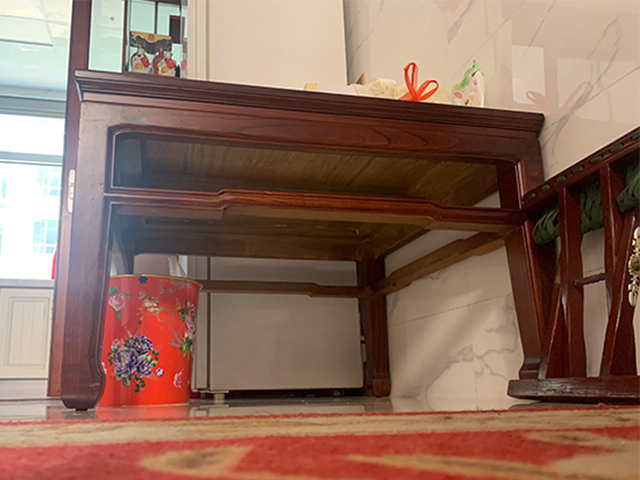cabinet: (1, 277, 55, 400)
carpet: (1, 405, 640, 480)
stool: (507, 127, 640, 404)
table: (58, 68, 551, 414)
trashcan: (98, 273, 203, 411)
